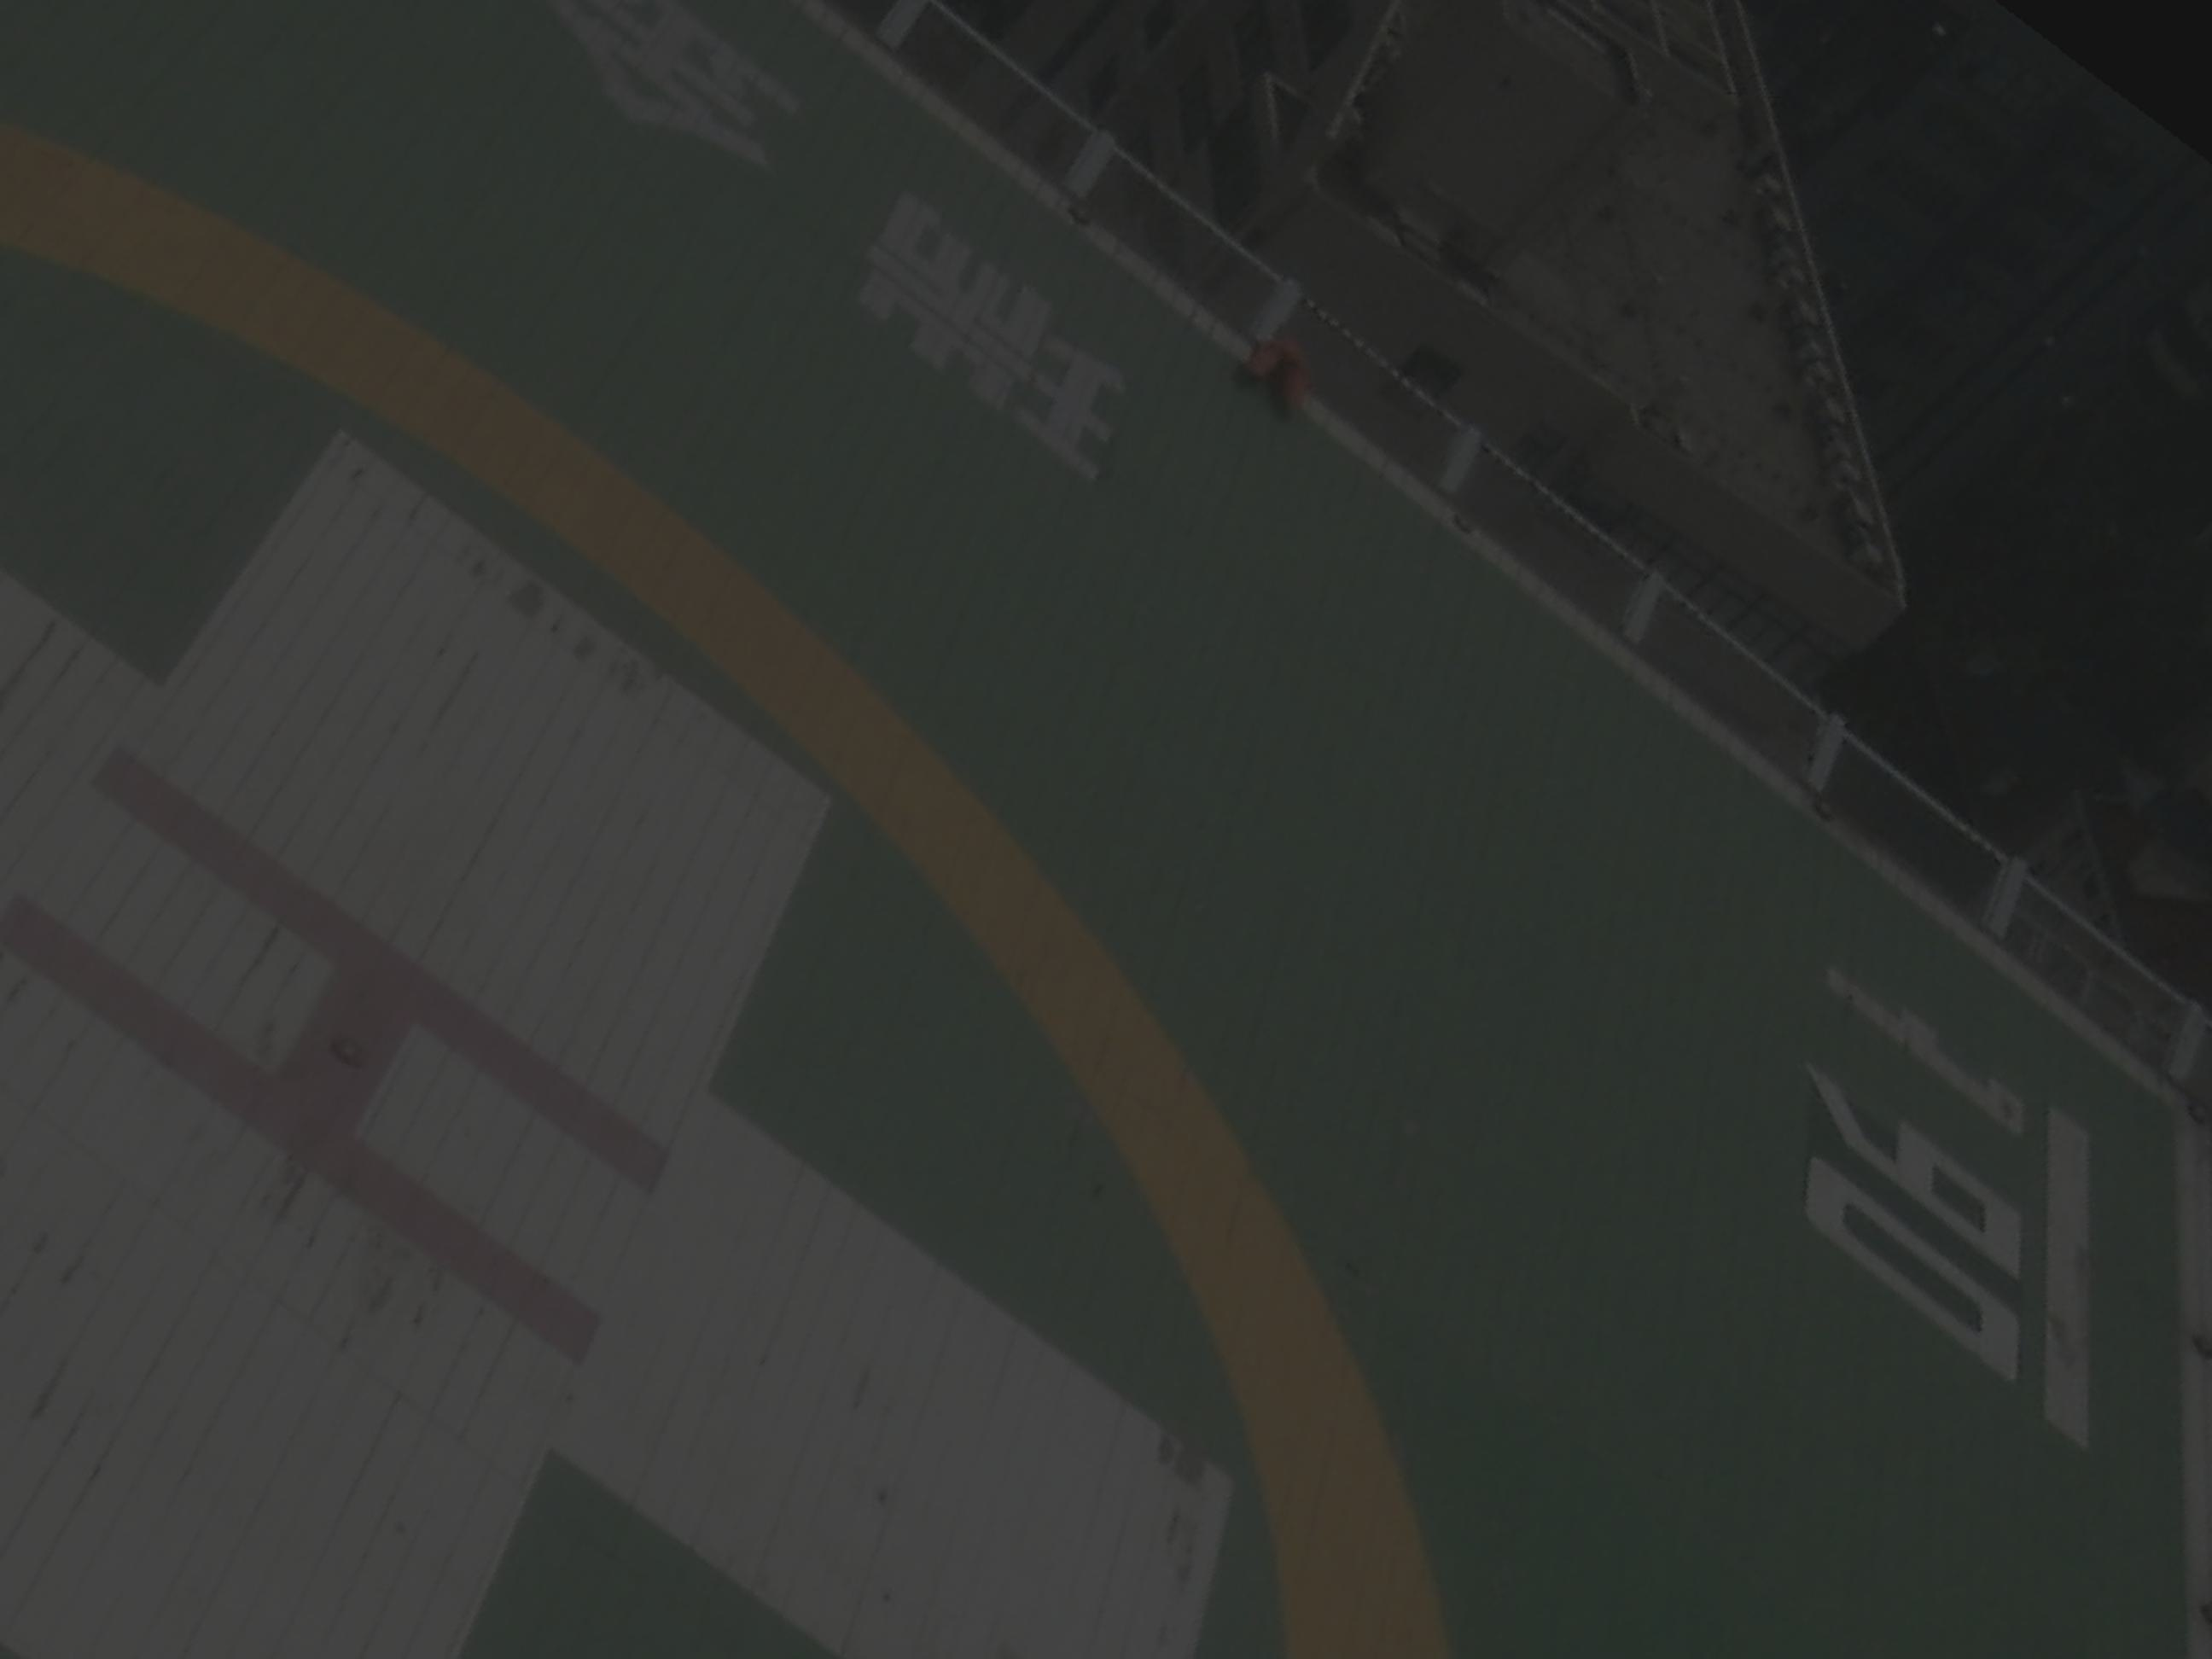Apron: (9, 85, 1474, 1659)
